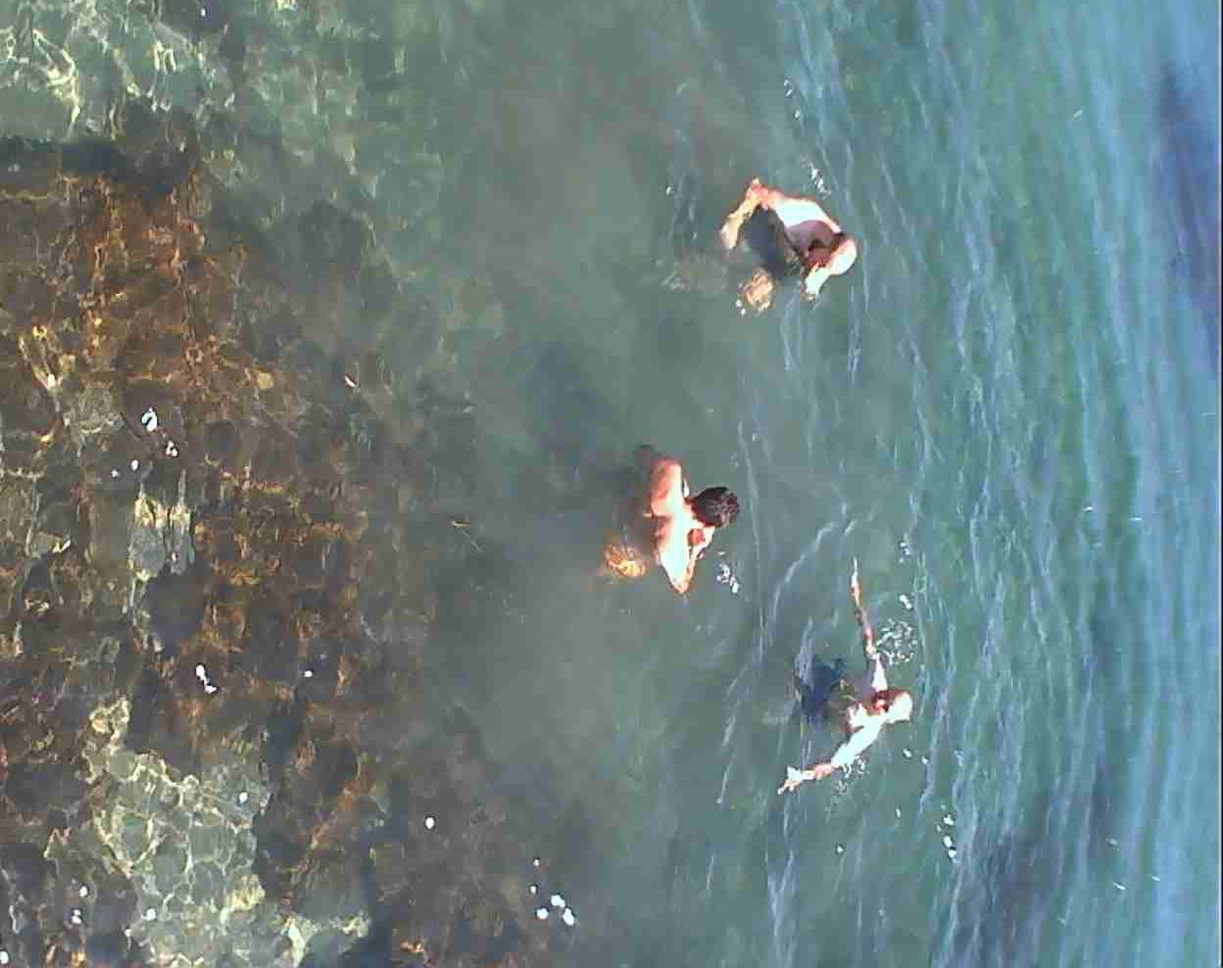swimmer: (786, 549, 915, 819), (599, 430, 737, 605), (719, 163, 854, 327)
